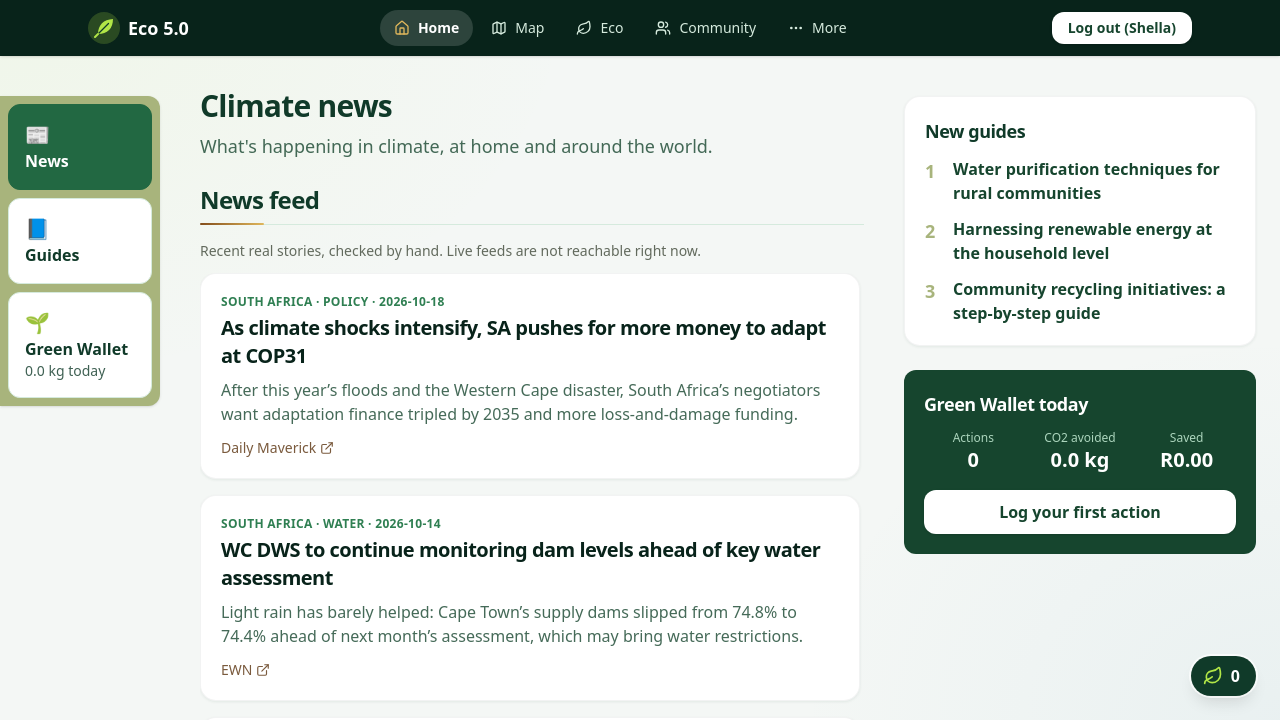
Test: News and Guides pages › switches between the two pages from the section strip
The width and height of the screenshot is (1280, 720).
Click the link "📘 Guides" at (80, 241), box [8,198,152,284]
(page scrolled)
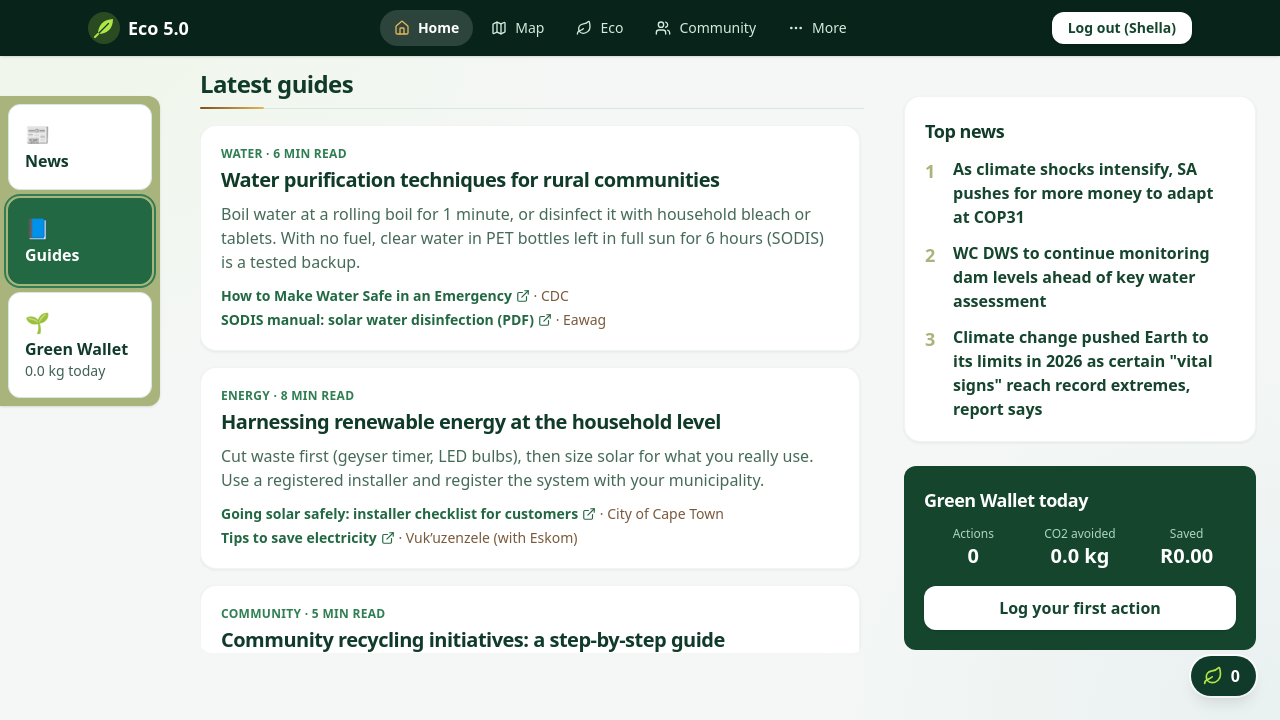
Check: the element "Latest guides" is shown, box [200,68,864,653]
